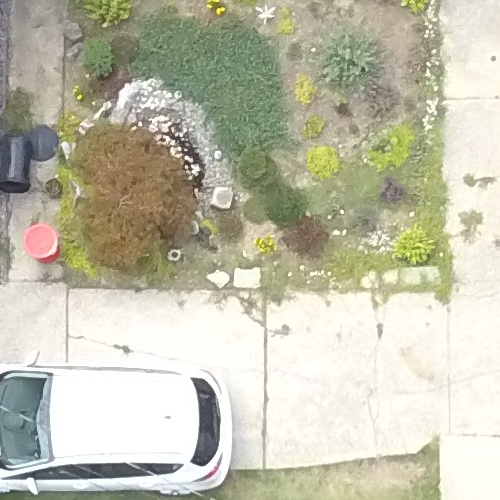container: (1, 128, 38, 199), (22, 219, 70, 269), (165, 248, 184, 271)
flower pot: (41, 174, 66, 199)
no larvae: (1, 126, 38, 197), (20, 217, 68, 267), (39, 172, 64, 197)
